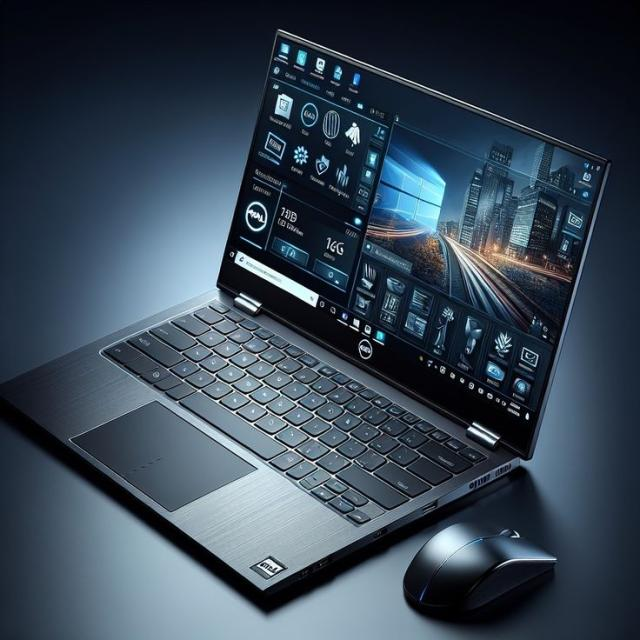laptop: (35, 15, 616, 533)
